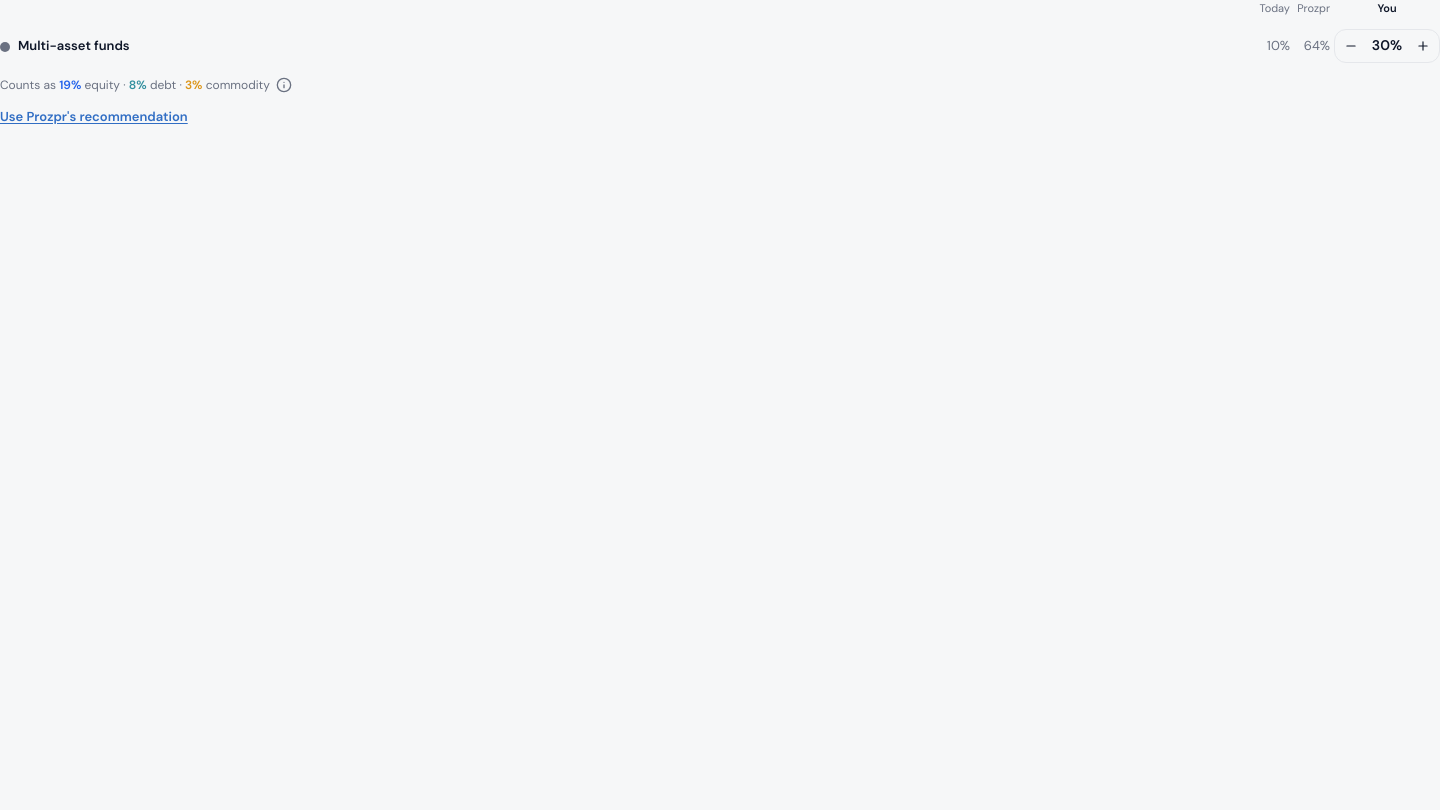
Test: MultiAssetPanel › names no limit when the fund fits at any amount
Click the button named "About multi-asset funds" at (284, 84), box x1=274 y1=74 x2=294 y2=94
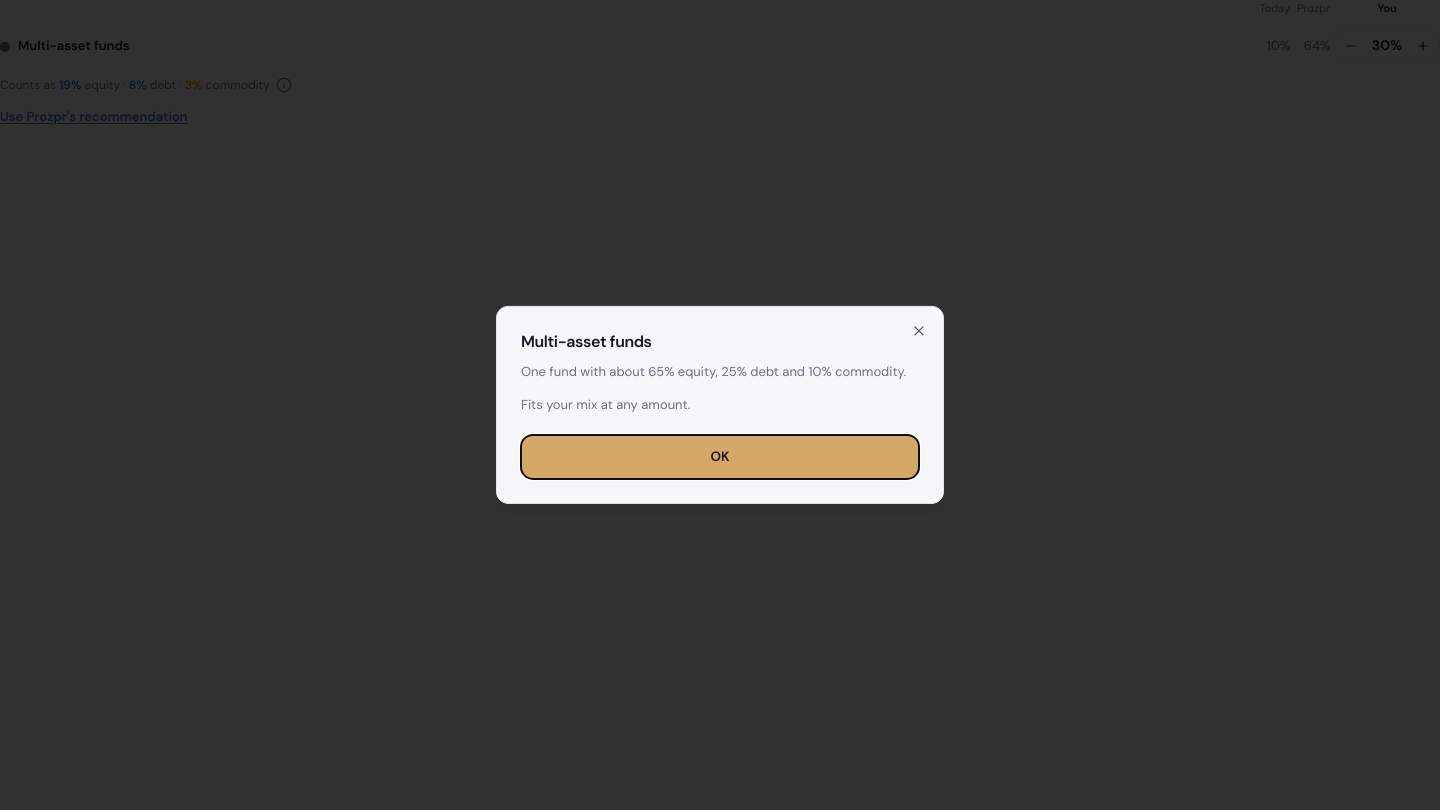
Expected: the dialog "Multi-asset funds" shows "Fits your mix at any amount.", x1=521 y1=396 x2=690 y2=413
